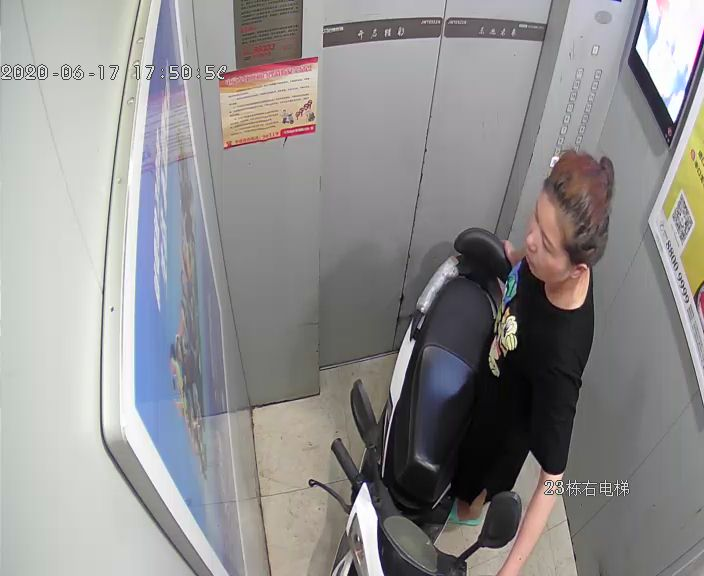Electric-bicycle: (307, 226, 521, 576)
